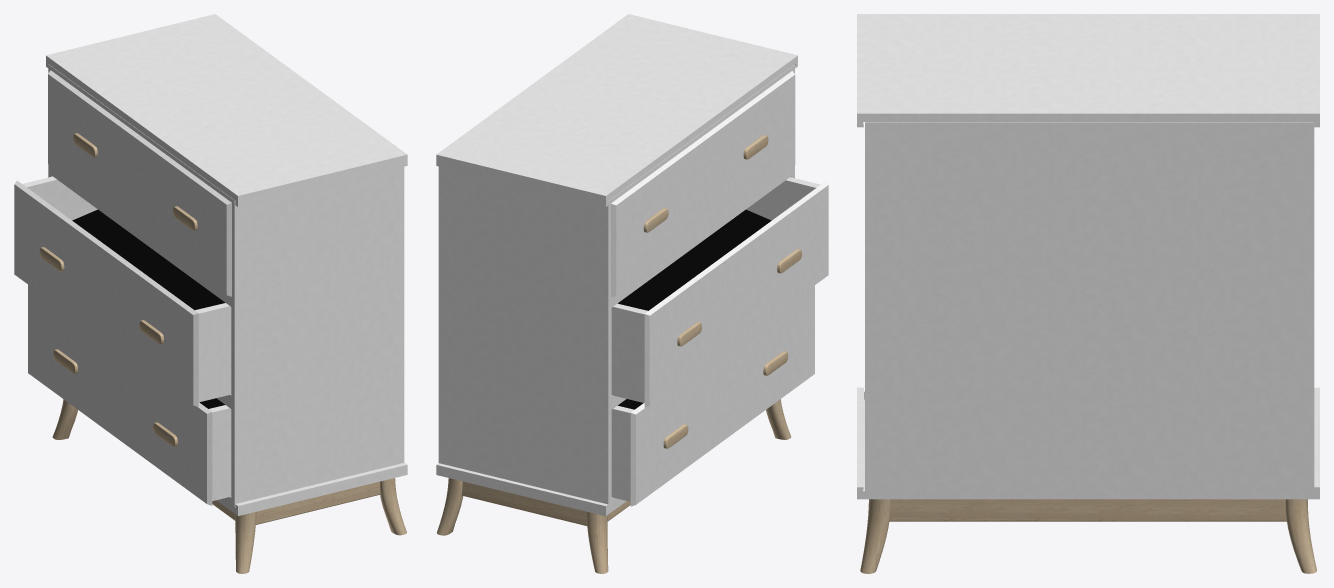
Rendered from Commode.FBX.
3 views of the same model, side by side, from view 1: azimuth 30°, elevation 25°; view 2: azimuth 150°, elevation 25°; view 3: azimuth 270°, elevation 25° (orthographic). The views are drawn at different scales.
Parts seen in each view (by area): view 1: CommodeBlanche, Commode noir interieur, Commode_interieur; view 2: CommodeBlanche, Commode noir interieur, Commode_interieur; view 3: CommodeBlanche, Commode noir interieur.
Part boxes in pixels (<box>): CommodeBlanche: <box>14,14,407,515</box>; Commode noir interieur: <box>39,133,406,573</box>; Commode_interieur: <box>72,209,225,408</box>; CommodeBlanche: <box>436,14,828,516</box>; Commode noir interieur: <box>437,135,801,573</box>; Commode_interieur: <box>618,209,771,409</box>; CommodeBlanche: <box>857,14,1319,499</box>; Commode noir interieur: <box>860,499,1316,573</box>.
Bounding box in the file's own units: 20.81 × 35.46 × 32.45.
